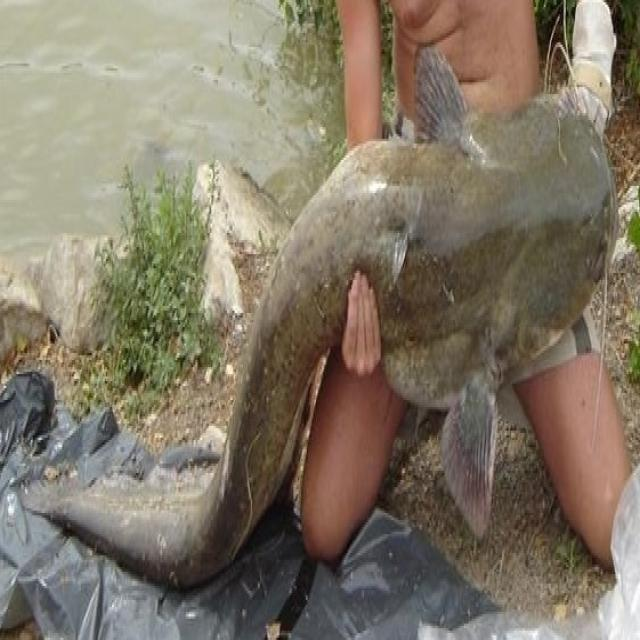Catfish: (9, 37, 618, 622)
